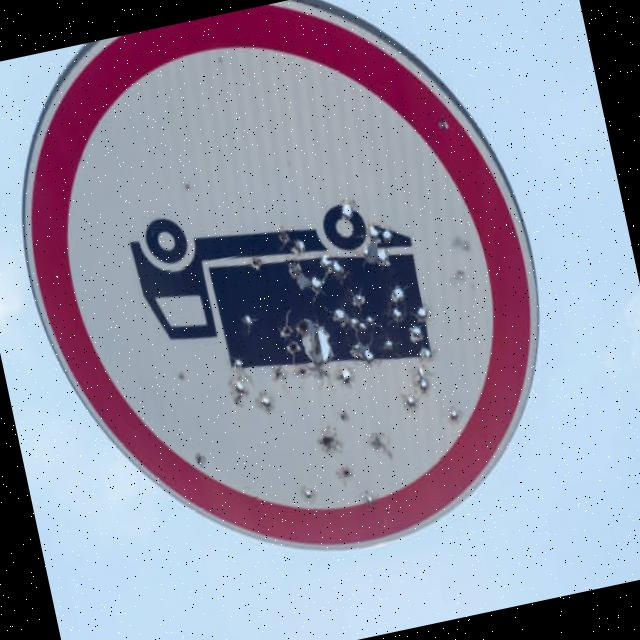do_not_enter: (0, 0, 593, 632)
